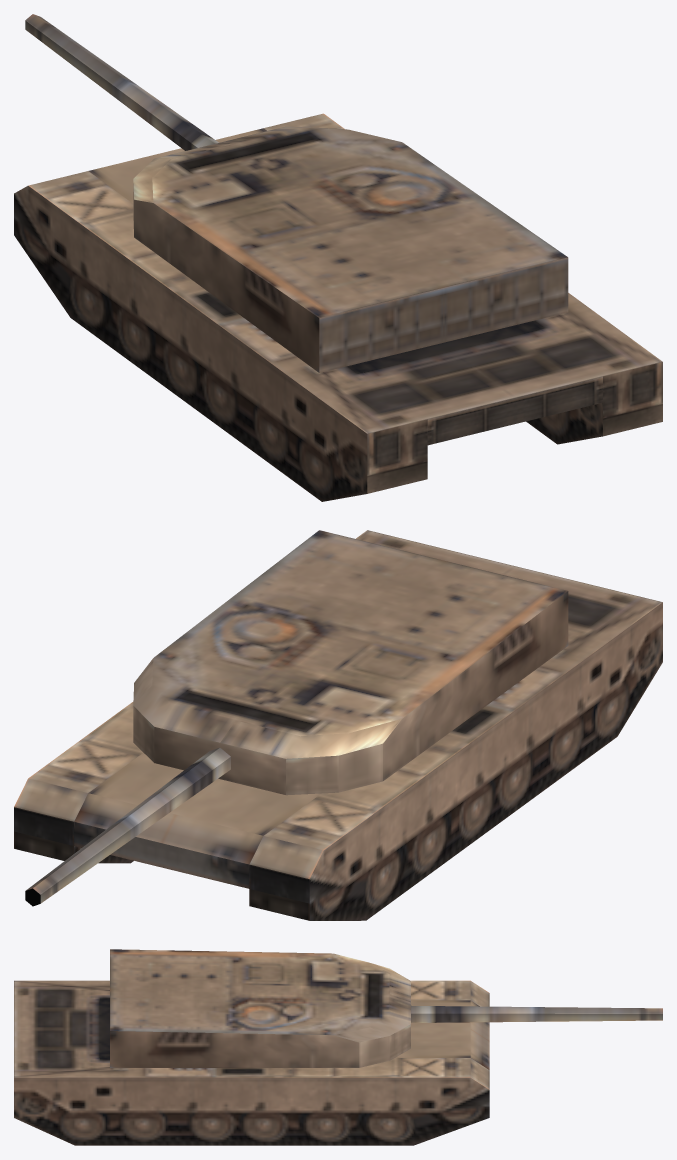
Rendered from tank.obj.
3 renders of one model, top to bottom at view 1: azimuth 30°, elevation 25°; view 2: azimuth 150°, elevation 25°; view 3: azimuth 270°, elevation 25°, orthographic. The views are drawn at different scales.
Visible parts, largest first — view 1: Cube; view 2: Cube; view 3: Cube.
Part boxes in pixels (left/top/right/bottom): Cube: left=14, top=14, right=662, bottom=501; Cube: left=14, top=530, right=662, bottom=920; Cube: left=14, top=949, right=662, bottom=1145.
Bounding box in the file's own units: 4.3 × 2.21 × 12.17.
1 material, 1 textured.
